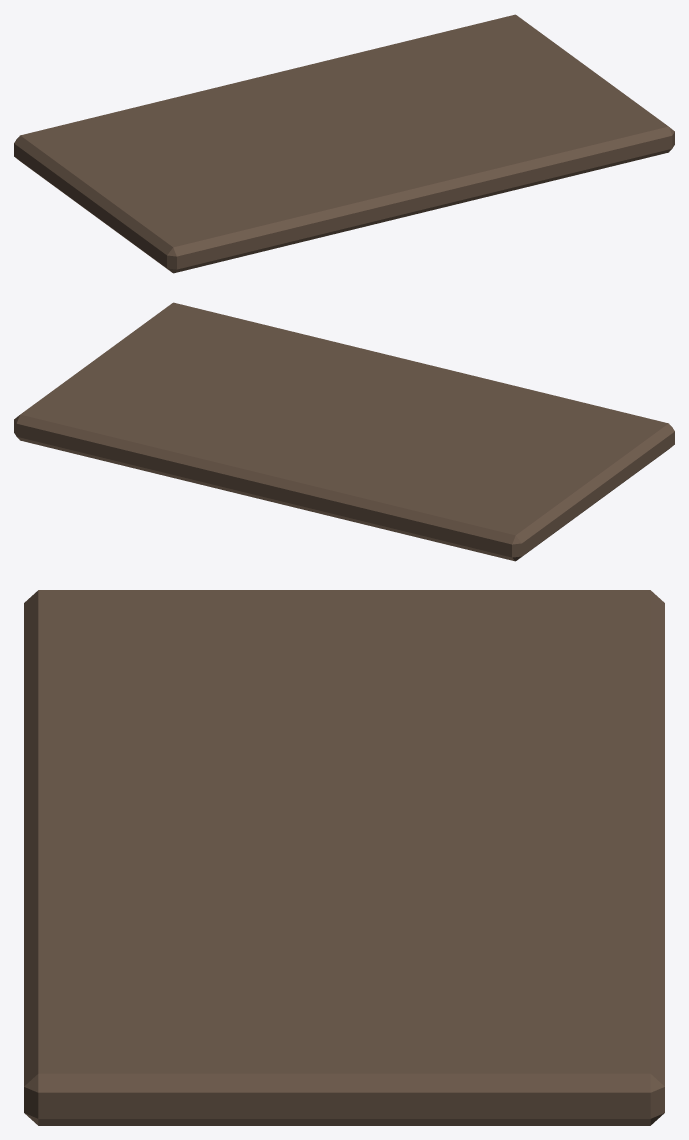
File: Cutting_board_2.fbx
The picture shows the model from 3 angles, top to bottom: view 1: azimuth 30°, elevation 25°; view 2: azimuth 150°, elevation 25°; view 3: azimuth 270°, elevation 25°; orthographic projection. The views are drawn at different scales.
Visible parts, largest first — view 1: Cutting_board_2; view 2: Cutting_board_2; view 3: Cutting_board_2.
Boxes of the visible parts, <box> form: Cutting_board_2: <box>14,14,674,273</box>; Cutting_board_2: <box>14,302,674,561</box>; Cutting_board_2: <box>24,590,664,1125</box>.
Bounding box in the file's own units: 54.78 × 29.94 × 2.69.
